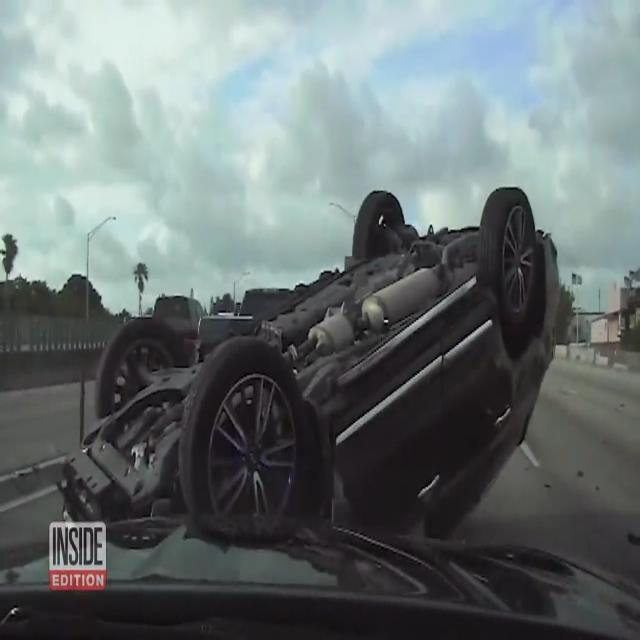accident: (58, 173, 567, 550)
